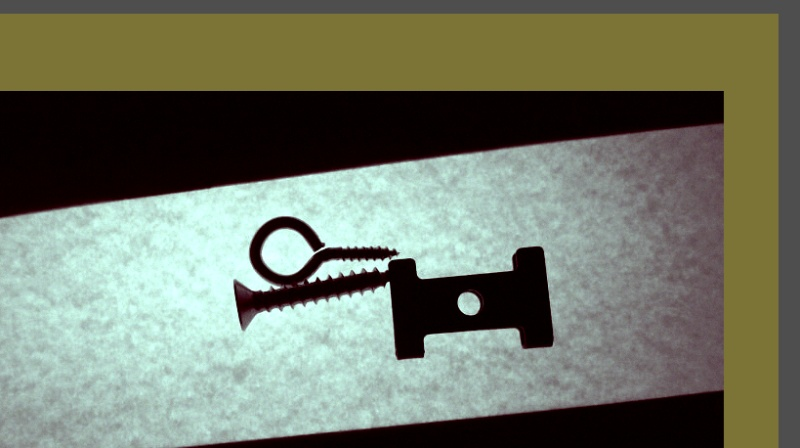O001: (243, 214, 406, 286)
O002: (384, 246, 556, 362)
S001: (229, 268, 393, 335)
